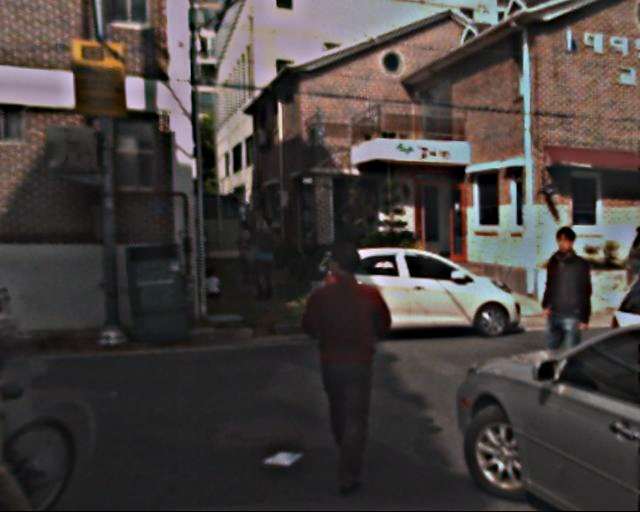person: (296, 246, 398, 493), (524, 227, 601, 419), (1, 284, 43, 497), (247, 213, 284, 304), (233, 220, 259, 283), (205, 267, 223, 305)
